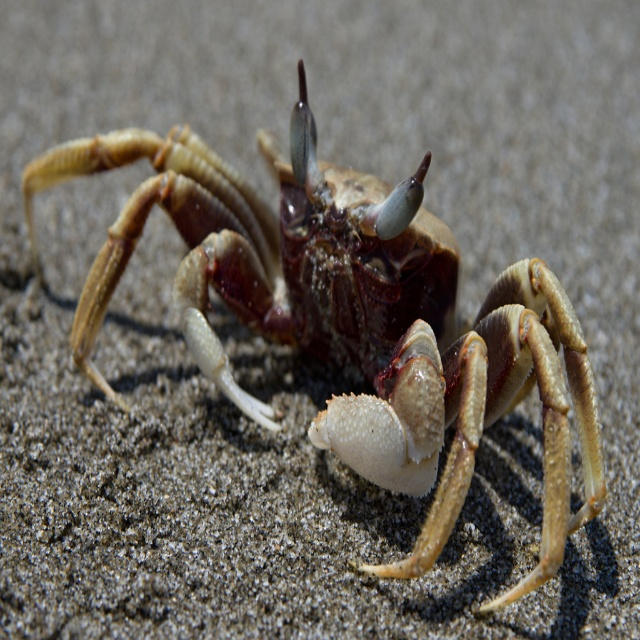Crab: (22, 58, 608, 614)
